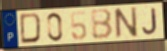0: (46, 12, 64, 42)
5: (69, 9, 88, 41)
B: (89, 8, 114, 41)
D: (19, 12, 43, 45)
J: (141, 7, 158, 36)
N: (112, 6, 139, 41)
